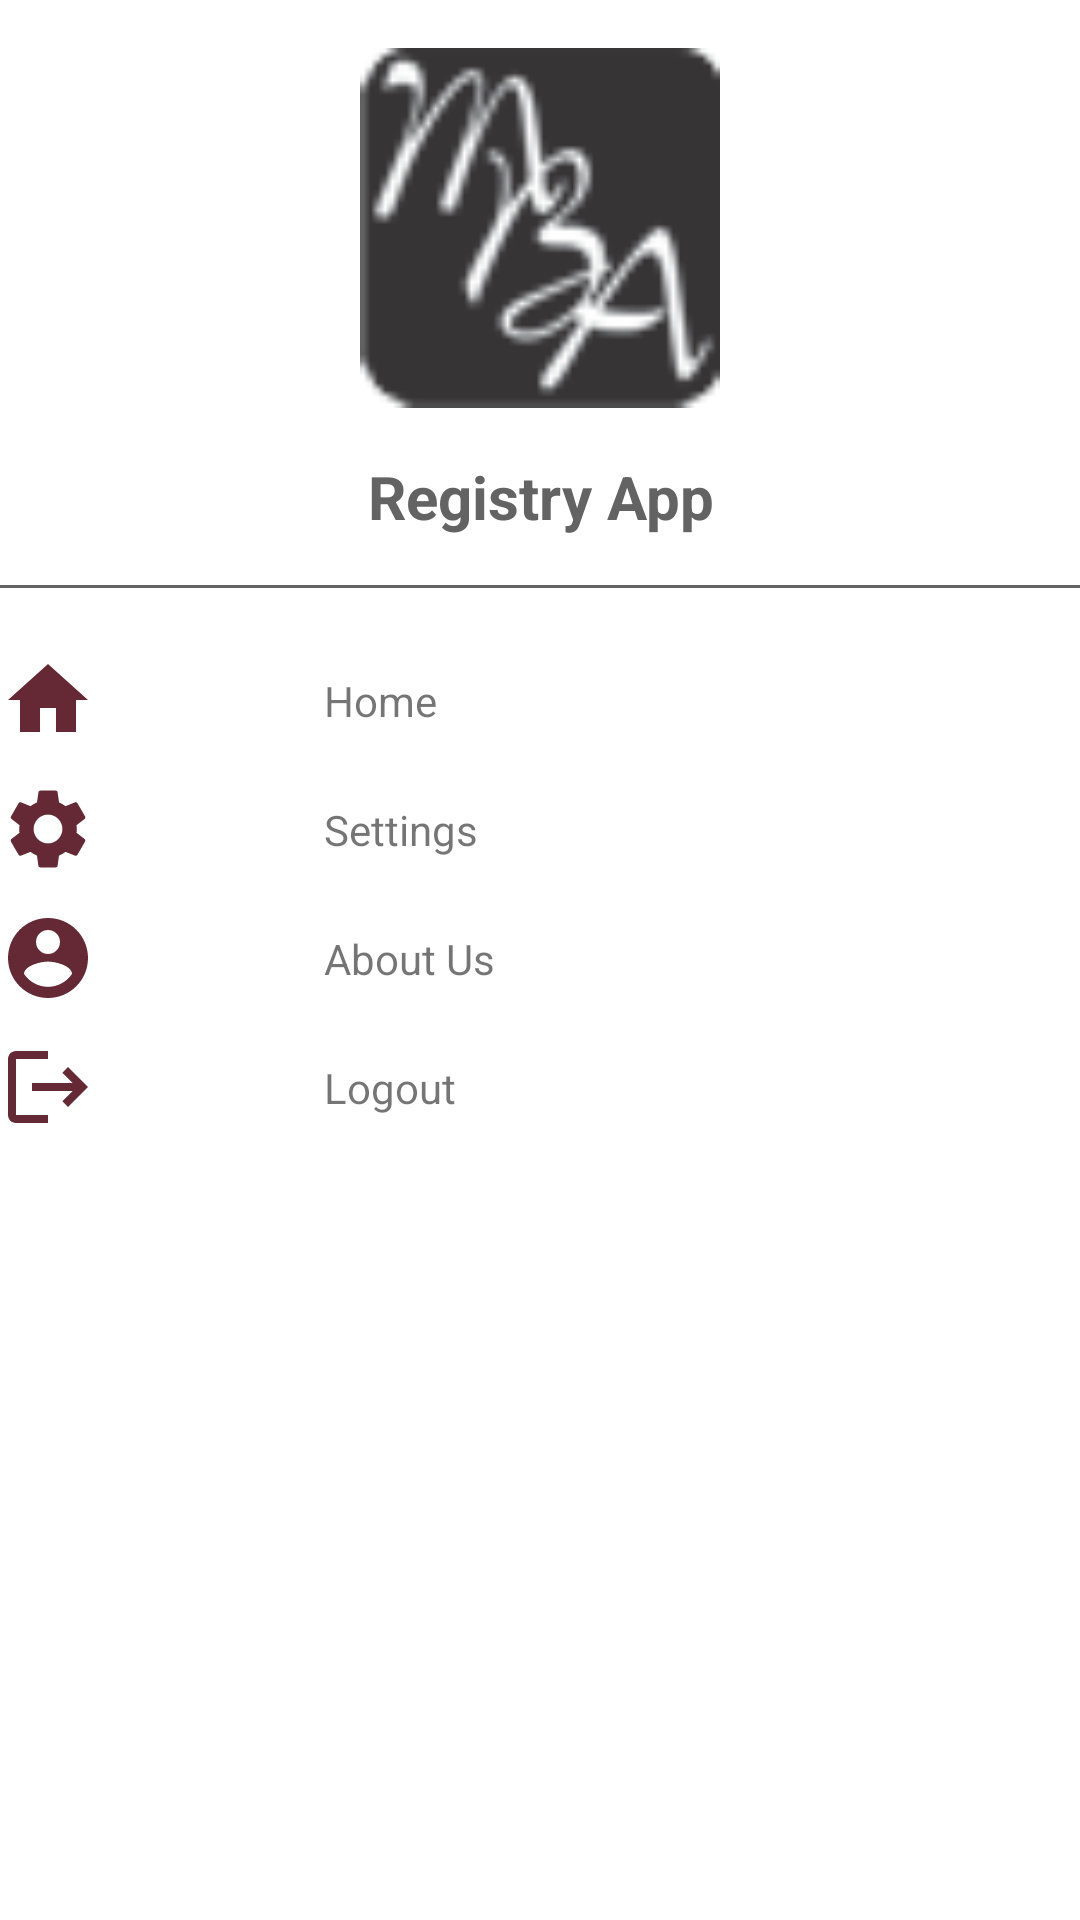

Icons on this 1080 x 1920 Android screen, each with its box as (x1, y1, x2, y2):
account circle: (8, 918, 88, 998)
home: (8, 664, 88, 732)
settings: (10, 790, 86, 868)
